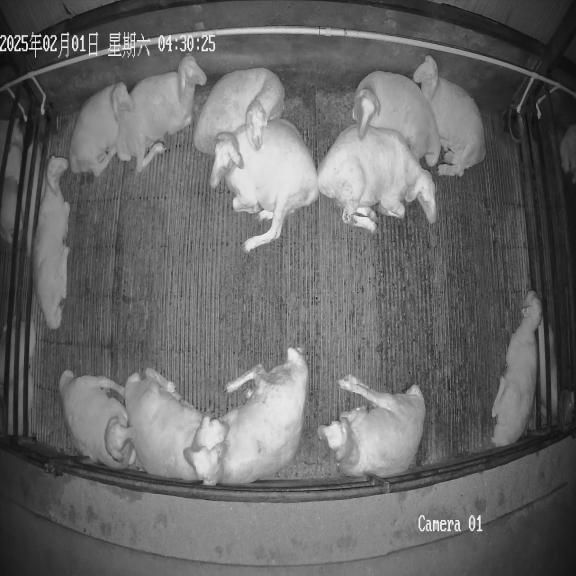lying: (185, 347, 308, 486), (210, 119, 319, 251), (317, 125, 436, 232), (124, 368, 228, 481), (110, 54, 206, 173), (317, 375, 425, 478), (413, 56, 486, 176), (352, 71, 441, 167), (491, 290, 542, 446), (193, 68, 284, 154), (59, 370, 135, 468), (33, 156, 70, 330), (70, 82, 134, 176)
